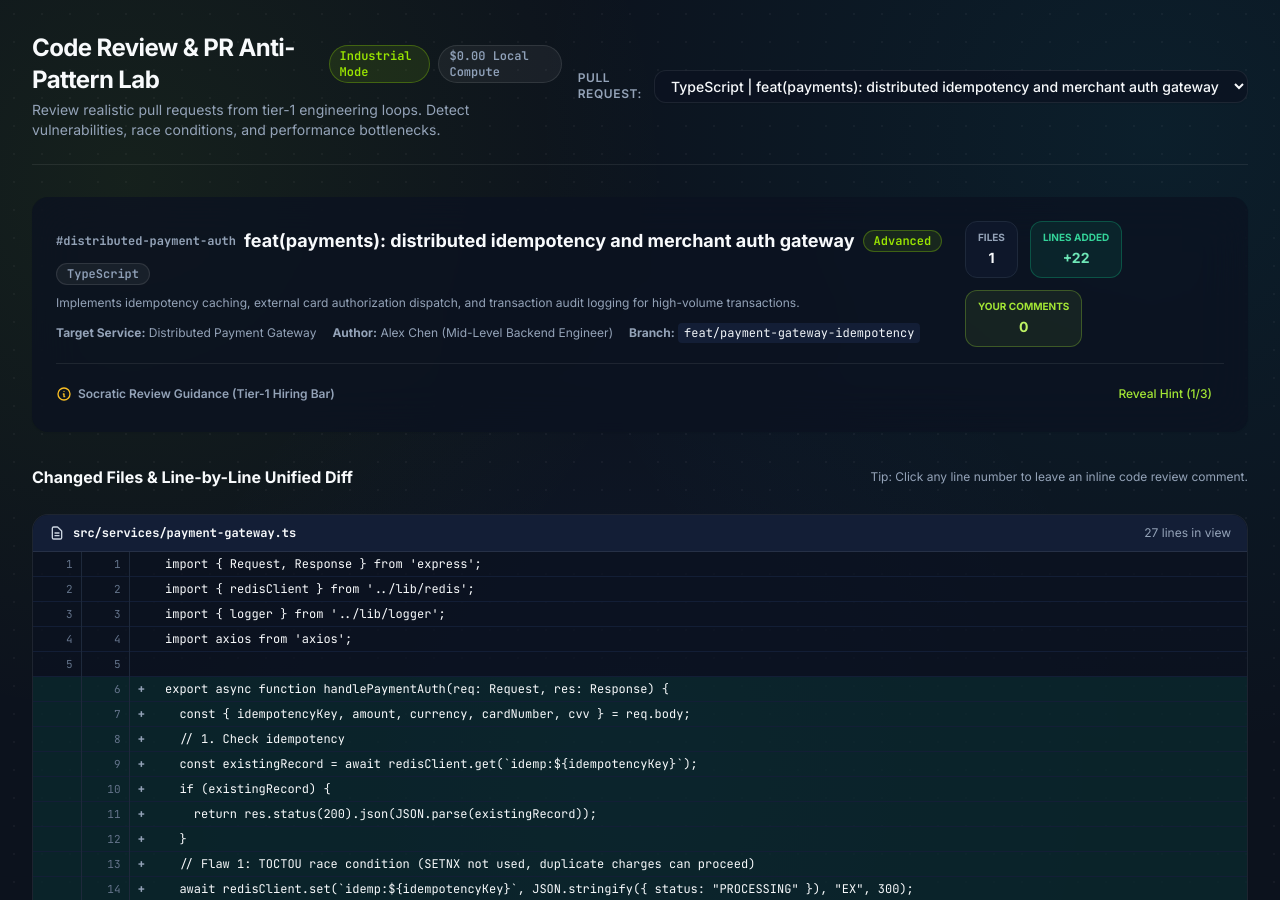
Scenario: CodeReviewPage › deletes an inline comment when Delete button is clicked
Click the 2nd cell titled "Click to add review comment" at {"x": 105, "y": 564}, box [81,552,129,576]
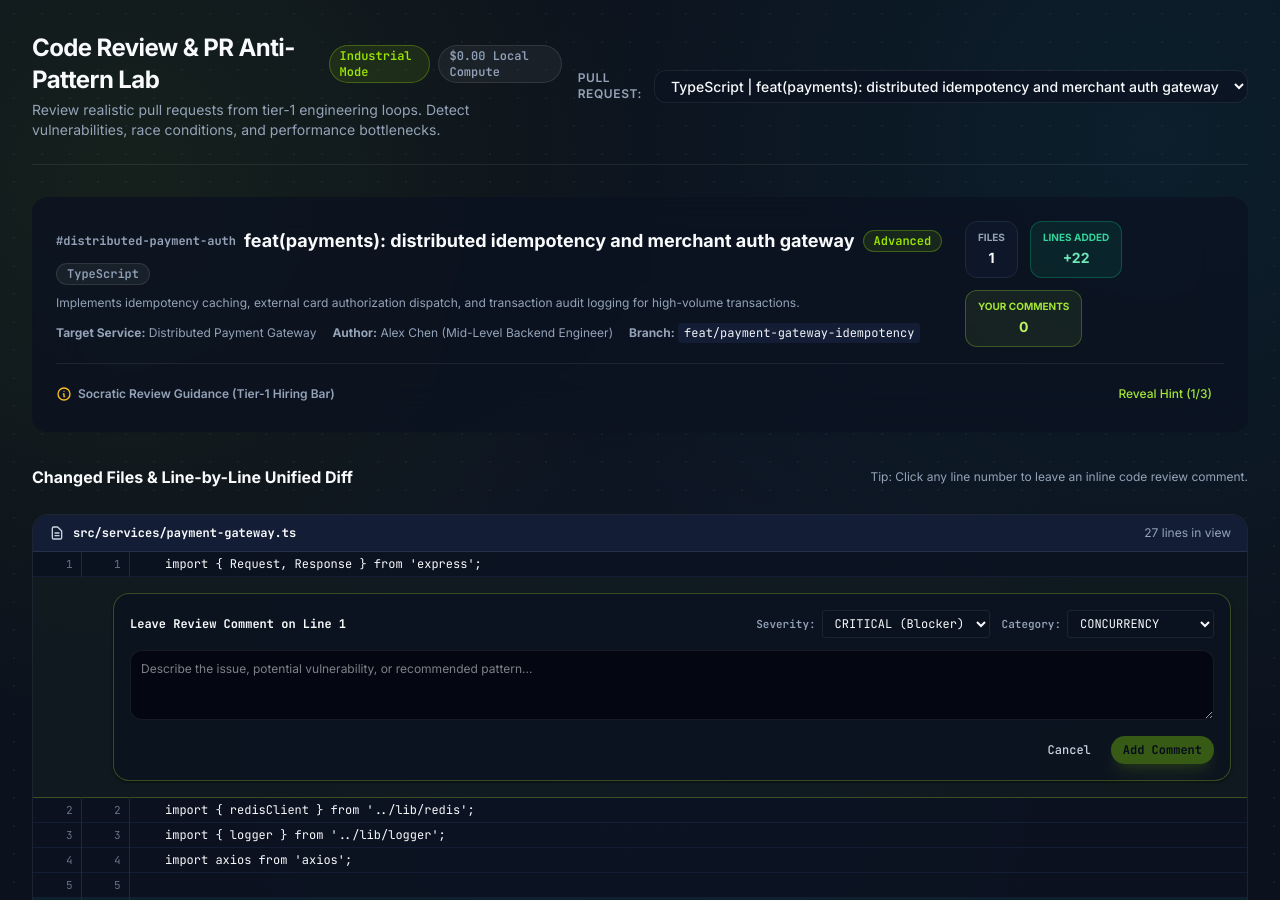
Replace the text in the text box with placeholder "Describe the issue, potential vulnerability, or recommended pattern" with "Temporary comment to delete" at {"x": 672, "y": 685}, box [130,650,1214,720]
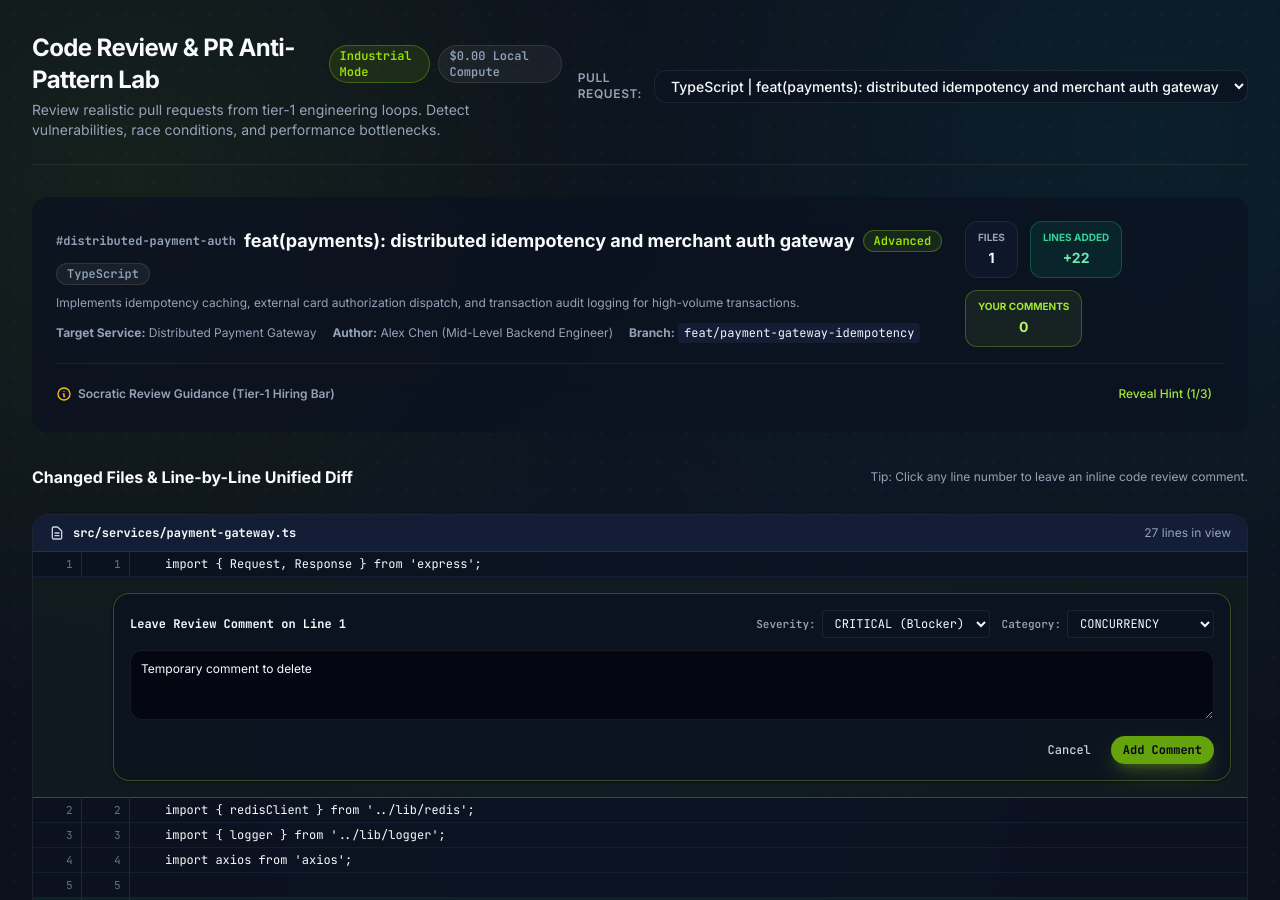
Click the button "Add Comment" at {"x": 1162, "y": 750}, box [1111,736,1214,764]
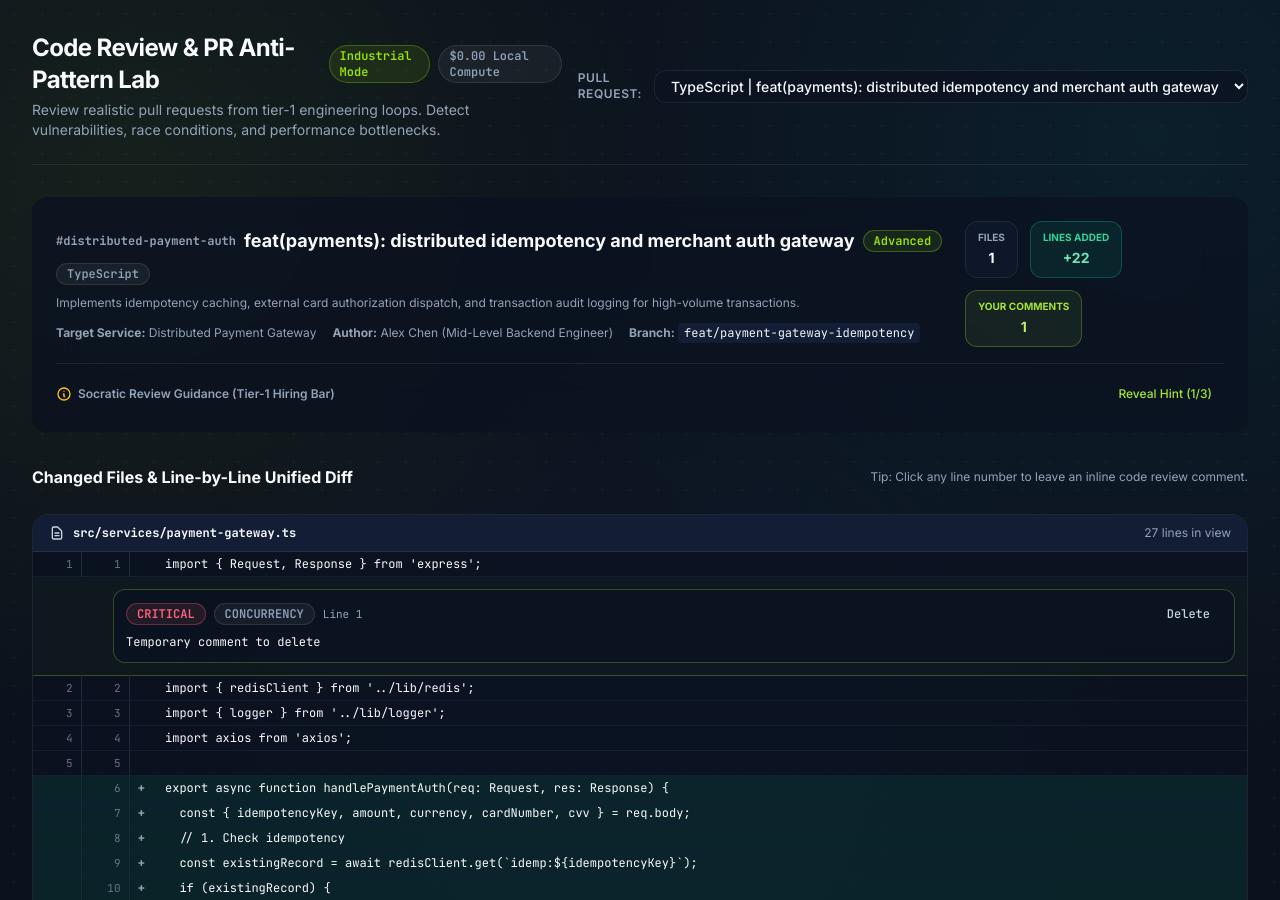
Result: the text "Temporary comment to delete" is shown at [126,634,320,650]
Click the button "Delete" at {"x": 1188, "y": 614}, box [1155,602,1222,626]
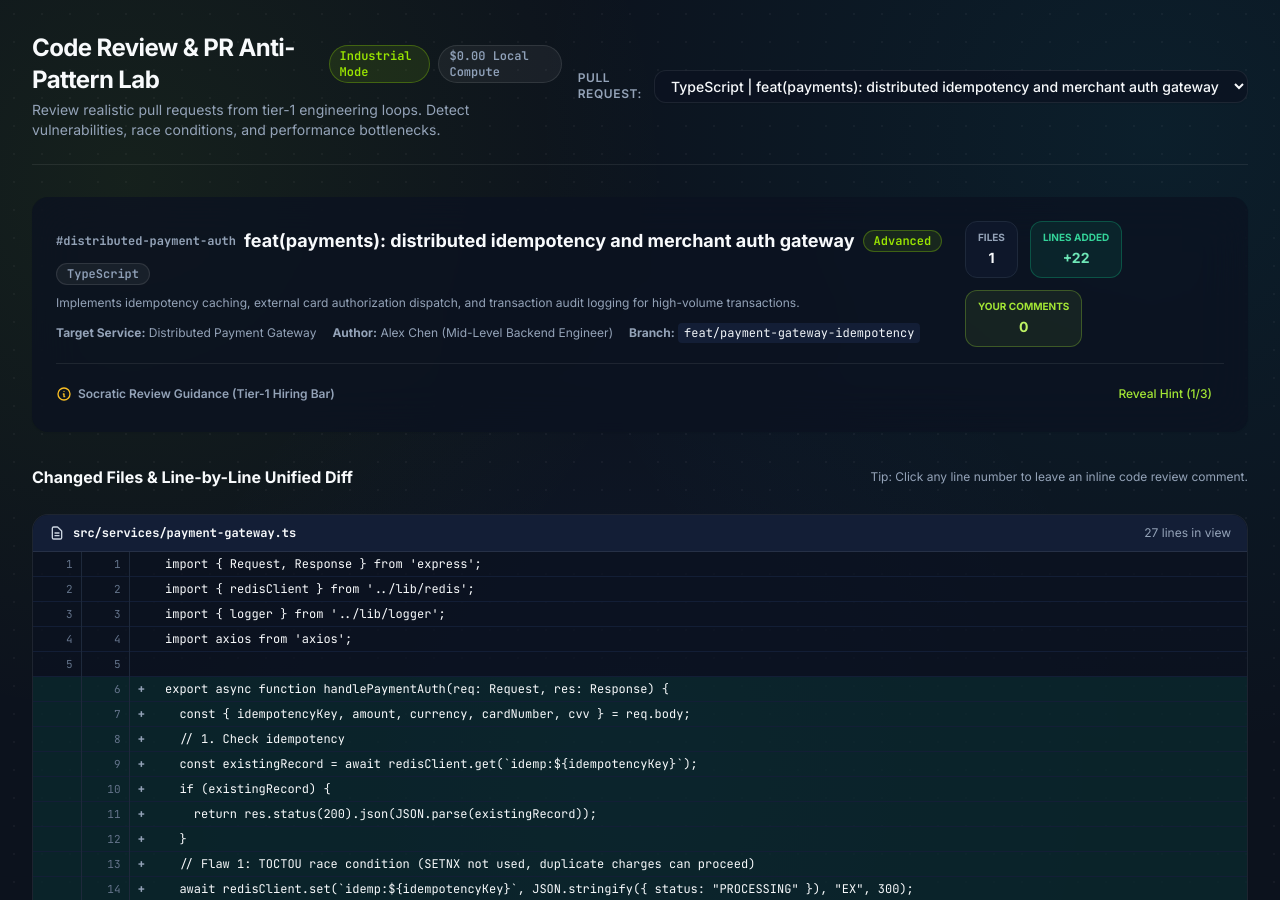
Result: the text "Temporary comment to delete" is gone
